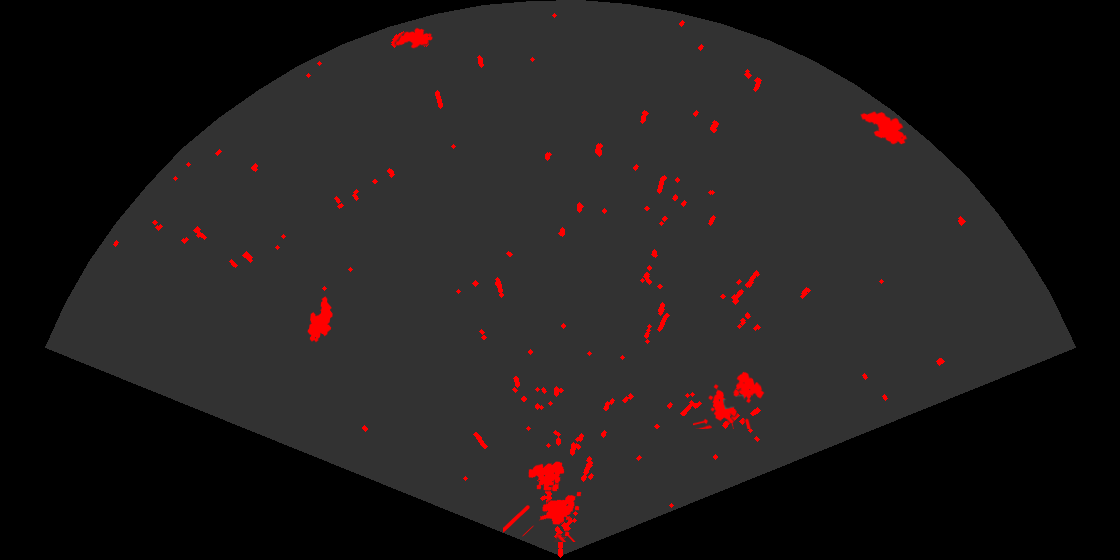AUV: (859, 110, 909, 146), (306, 295, 334, 344), (394, 26, 434, 50)
cage: (503, 460, 583, 542), (693, 370, 766, 429)
